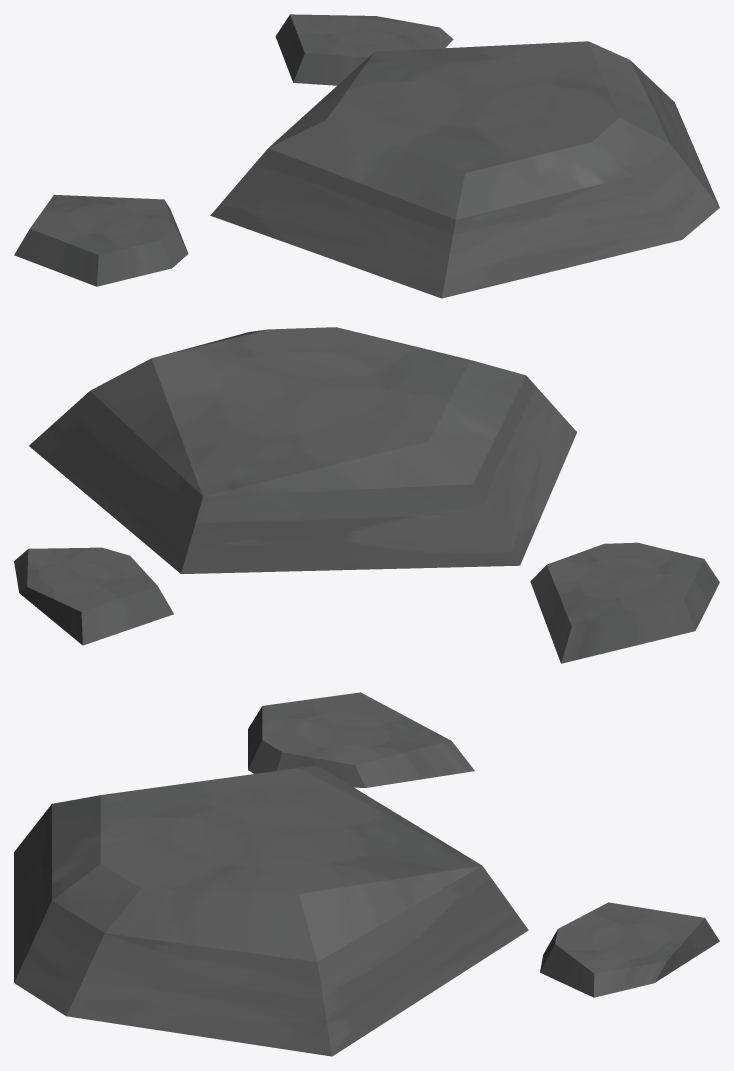
Rendered from Pedras_Pequenas_2.fbx.
3 views of the same model, one above another, from view 1: azimuth 30°, elevation 25°; view 2: azimuth 150°, elevation 25°; view 3: azimuth 270°, elevation 25° (orthographic). The views are drawn at different scales.
Parts seen in each view (by area): view 1: Rock_Pebbles; view 2: Rock_Pebbles; view 3: Rock_Pebbles.
Boxes of the visible parts, x1=… form: Rock_Pebbles: x1=14, y1=14, x2=719, y2=298; Rock_Pebbles: x1=14, y1=327, x2=719, y2=663; Rock_Pebbles: x1=14, y1=692, x2=719, y2=1056.
Size of the model in its own units: 70.96 by 12.31 by 60.33.
